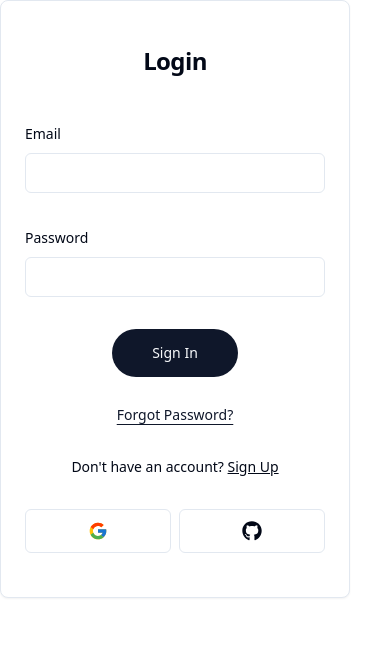
Test: LoginForm component › should show validation errors if form is submitted empty
This screenshot has width=367, height=671.
Click the button "Sign In".
click(175, 353)  # box [112,329,238,377]
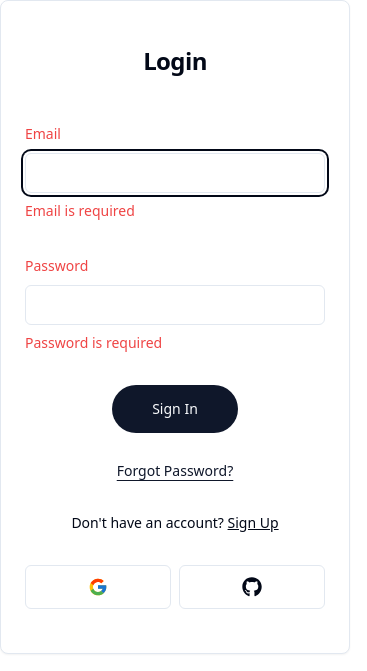
Expected: the text "Email is required" is shown, [25,201,135,220]
Expected: the text "Password is required" is shown, [25,333,162,352]
